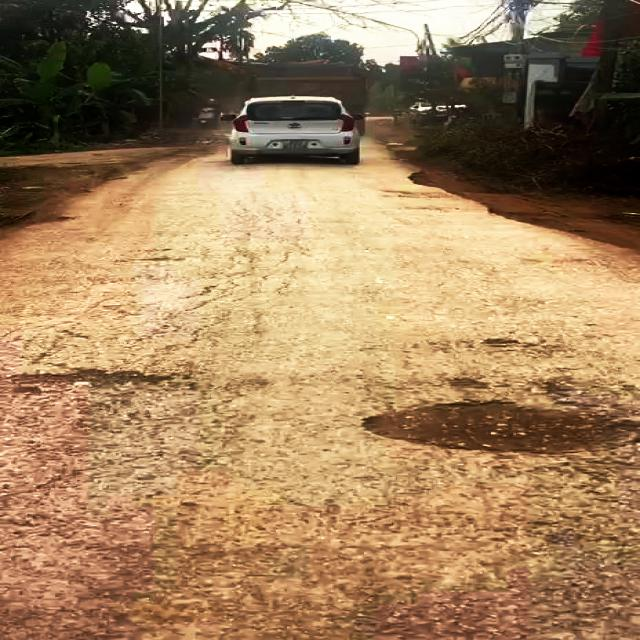pothole: (356, 397, 640, 462)
